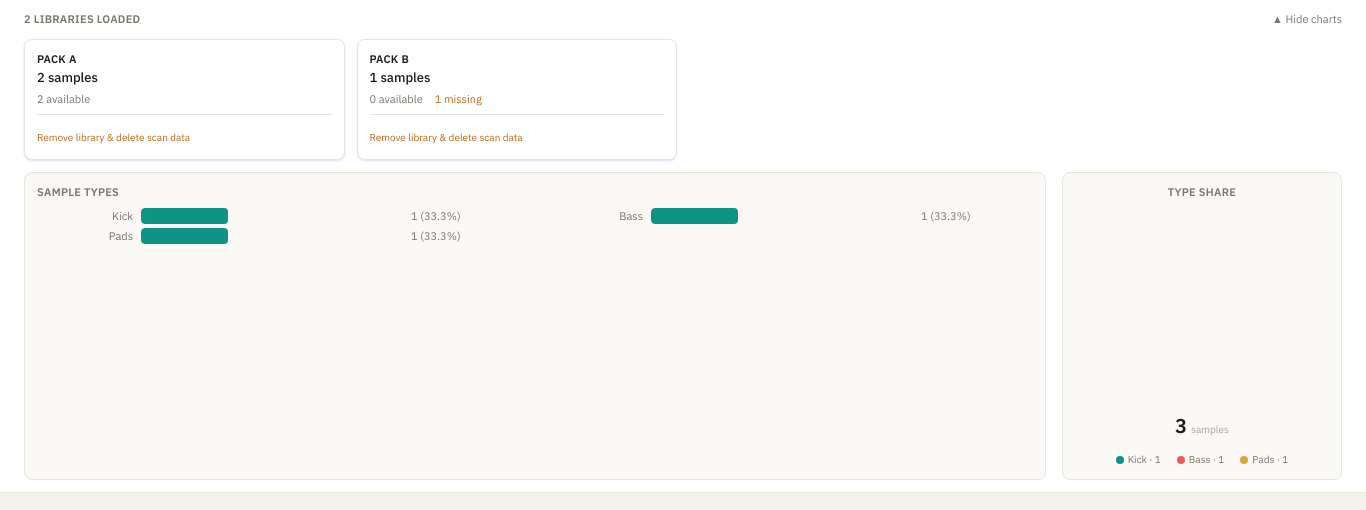
Dashboard › shows stats section by default and toggles it
The width and height of the screenshot is (1366, 510).
expect the heading "Sample Types" is shown: met, box [37,186,119,200]
Click the button "▲ Hide charts": (1307, 19) [1272,12,1342,27]
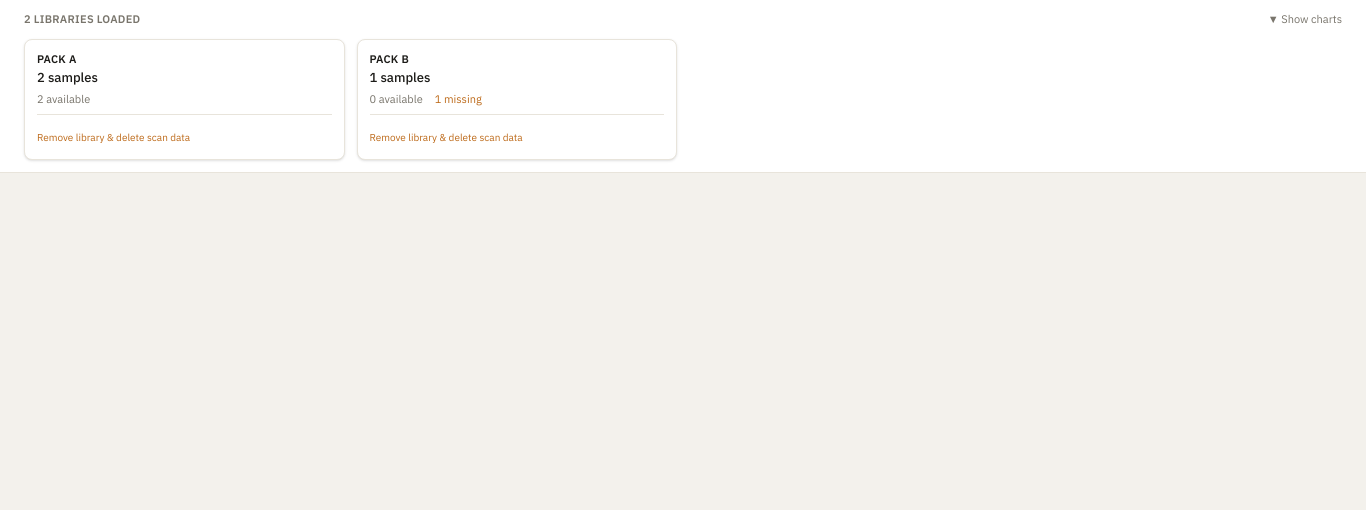
expect the heading "Sample Types" is gone: met
Click the button "▼ Show charts": (1305, 19) [1268,12,1342,27]
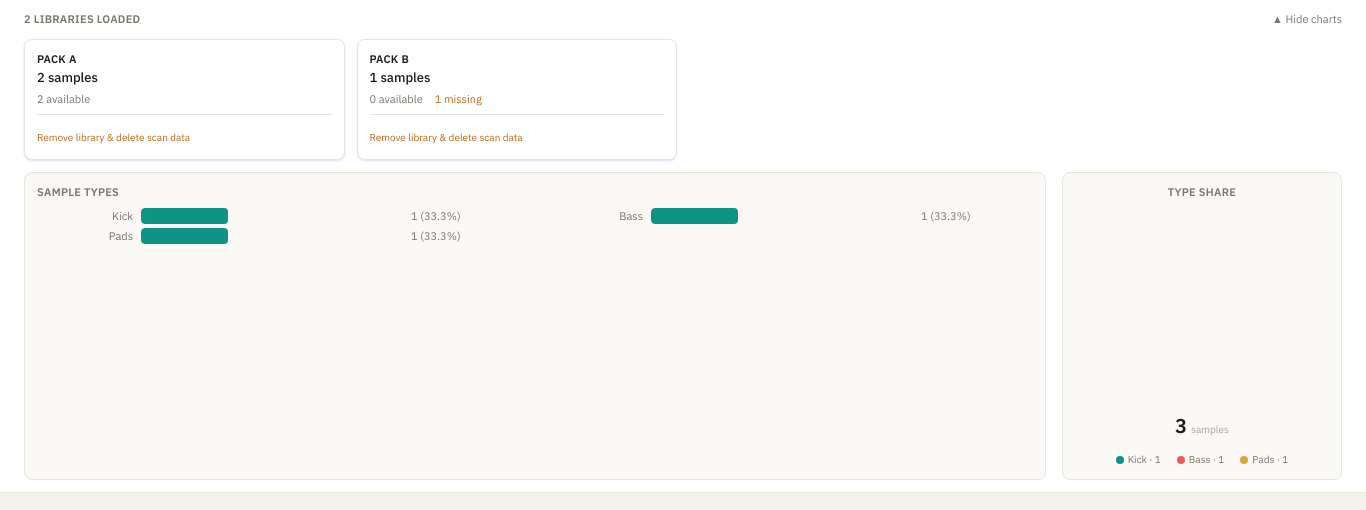
expect the heading "Sample Types" is shown: met, box [37,186,119,200]
